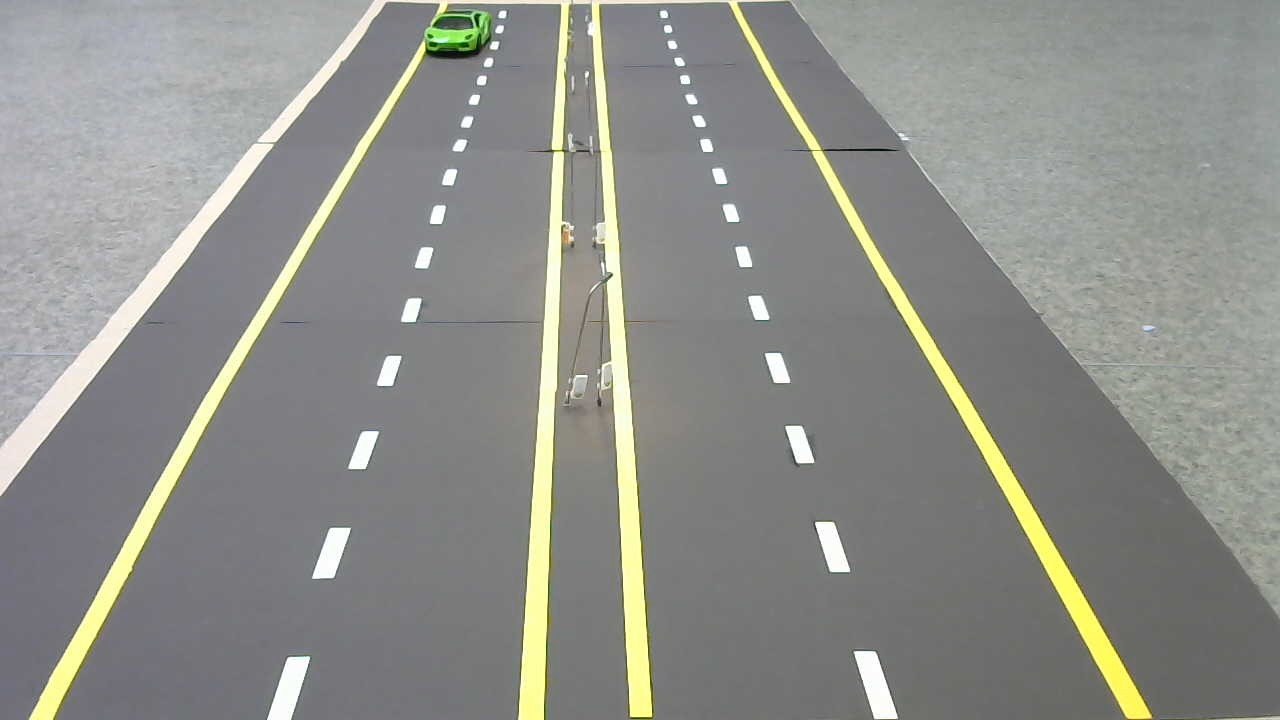front_car: (422, 7, 496, 60)
